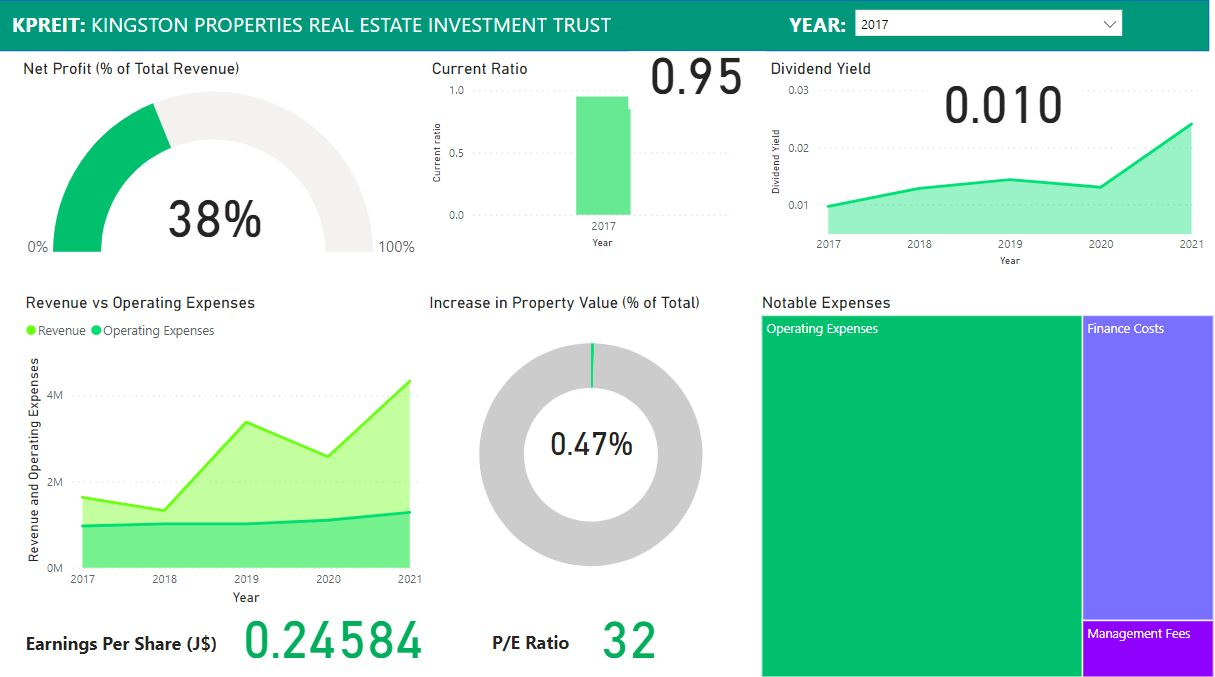

This screenshot's page, from the dashboard's own definition file:
{"tool":"powerbi","page":{"name":"Page 1","canvas":[1280,720],"ordinal":0},"visuals":[{"type":"shape","box":[0,0,1270.4,53.6],"z":0},{"type":"textbox","box":[11,5.5,723.8,43.9],"z":1000},{"type":"textbox","box":[825.4,5.5,127.7,41.2],"z":2000},{"type":"gauge","title":"Net Profit (% of Total Revenue)","fields":{"Y":["Avg(Sheet1.Net Profit/Total Revenue)"],"MinValue":["Sheet1.min_np/tr"],"MaxValue":["Sheet1.max_np/tr"]},"box":[22,61.8,425.8,222.5],"z":3000},{"type":"areaChart","title":"Dividend Yield","fields":{"Category":["Sheet1 (2).Year","Sheet1 (2).Dividend Yield"],"Y":["Sum(Sheet1 (2).Dividend Yield)"]},"box":[806.2,61.8,464.2,222.5],"z":4000},{"type":"clusteredColumnChart","title":"Current Ratio","fields":{"Category":["Sheet1.Year","Sheet1.Current ratio"],"Y":["Sum(Sheet1.Current ratio)"]},"box":[450.5,61.8,324.1,203.3],"z":5000},{"type":"areaChart","title":"Revenue vs Operating Expenses","fields":{"Category":["Sheet1 (2).Year"],"Y":["Sum(Sheet1 (2).Revenue)","Sum(Sheet1 (2).Operating Expenses)"]},"box":[24.7,306.3,425.8,332.4],"z":6000},{"type":"treemap","title":"Notable Expenses","fields":{"Values":["Sum(Sheet1.Management Fees)","Sum(Sheet1.Loss on disposal of furniture and equipment)","Sum(Sheet1.Investment Fee)","Sum(Sheet1.Finance Costs)","Sum(Sheet1.Operating Expenses)"]},"box":[796.6,306.3,483.4,407.9],"z":7000},{"type":"donutChart","title":"Increase in Property Value (% of Total)","fields":{"Y":["Sheet1.abs_ipv","Sheet1.Other Value"]},"box":[447.7,306.3,348.8,321.4],"z":8000},{"type":"card","fields":{"Values":["Avg(Sheet1.Dividend Yield)"]},"box":[976.5,85.2,157.9,57.7],"z":9000},{"type":"card","fields":{"Values":["Avg(Sheet1.Current ratio)"]},"box":[662,53.6,144.2,60.4],"z":10000},{"type":"slicer","fields":{"Values":["Sheet1.Year"]},"box":[890,0,299.4,53.6],"z":11000},{"type":"card","fields":{"Values":["Sheet1.np/tr"]},"box":[142.8,201.9,171.7,63.2],"z":12000},{"type":"textbox","box":[24.7,656.5,232.1,50.8],"z":13000},{"type":"card","fields":{"Values":["Sum(Sheet1.Earnings per stck unit (adj.) (adj.))"]},"box":[229.4,640,245.8,67.3],"z":14000},{"type":"textbox","box":[513.6,655.1,108.5,33],"z":15000},{"type":"card","fields":{"Values":["Sheet1.P/E Ratio"]},"box":[601.5,641.4,122.2,65.9],"z":16000},{"type":"card","fields":{"Values":["Sheet1.ipv"]},"box":[563.1,446.4,119.5,52.2],"z":17000}]}

Visuals, with their boxes in screenshot pixels (x1, y1, x2, y2), scaled from the page's 1280x720 canvas onto the 1215x677 screenshot:
shape: (0, 0, 1206, 50)
textbox: (10, 5, 697, 46)
textbox: (783, 5, 905, 44)
"Net Profit (% of Total Revenue)" gauge: (21, 58, 425, 267)
"Dividend Yield" areaChart: (765, 58, 1206, 267)
"Current Ratio" clusteredColumnChart: (428, 58, 735, 249)
"Revenue vs Operating Expenses" areaChart: (23, 288, 428, 601)
"Notable Expenses" treemap: (756, 288, 1214, 672)
"Increase in Property Value (% of Total)" donutChart: (425, 288, 756, 590)
card - Avg(Sheet1.Dividend Yield): (927, 80, 1077, 134)
card - Avg(Sheet1.Current ratio): (628, 50, 765, 107)
slicer - Sheet1.Year: (845, 0, 1129, 50)
card - Sheet1.np/tr: (136, 190, 299, 249)
textbox: (23, 617, 244, 665)
card - Sum(Sheet1.Earnings per stck unit (adj.) (adj.)): (218, 602, 451, 665)
textbox: (488, 616, 591, 647)
card - Sheet1.P/E Ratio: (571, 603, 687, 665)
card - Sheet1.ipv: (535, 420, 648, 469)
